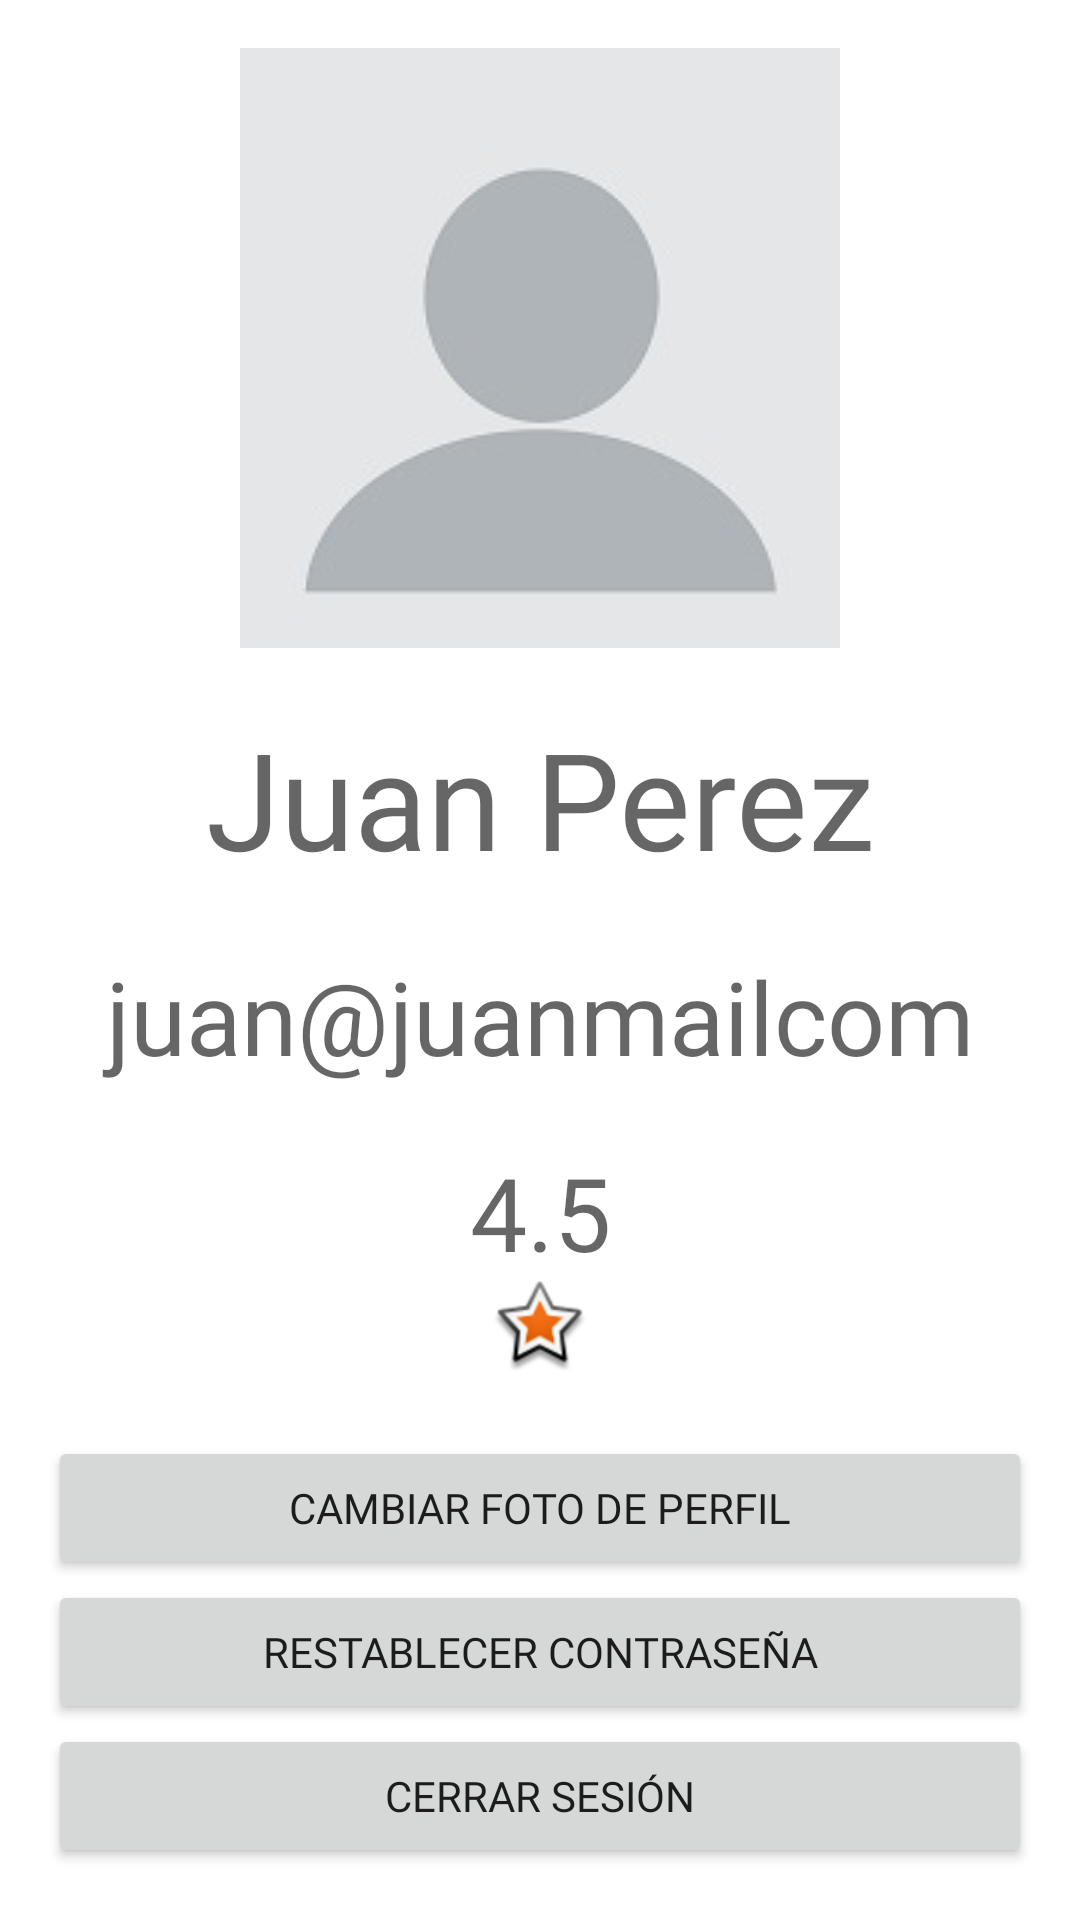

Screen size 1080px×1920px. Icon name, then its center in pixels as [x,y]:
star on: [540,1324]
